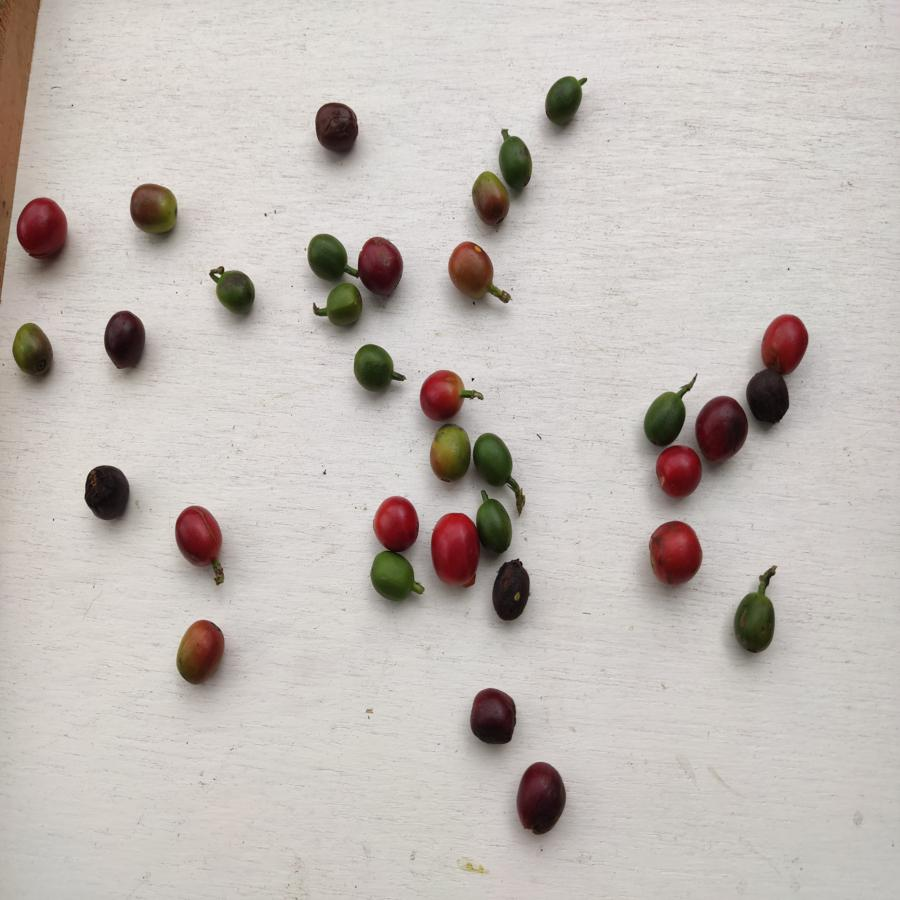Inmaduro: (732, 589, 777, 655), (472, 432, 517, 487), (371, 550, 416, 605), (541, 73, 585, 128), (642, 390, 685, 446), (352, 343, 396, 395), (498, 134, 537, 192), (210, 267, 257, 315), (475, 500, 515, 556), (307, 233, 347, 281), (324, 282, 365, 328)
Maduro: (645, 518, 703, 587), (430, 512, 480, 588), (15, 197, 69, 263), (758, 310, 812, 371), (175, 505, 224, 571), (370, 495, 421, 553), (418, 368, 467, 420), (656, 447, 703, 498)
Pinton: (176, 620, 227, 688), (445, 242, 498, 304), (126, 182, 182, 236), (430, 422, 471, 483), (12, 322, 55, 378), (471, 170, 509, 224)
Sobremaduro: (517, 759, 568, 837), (697, 395, 750, 462), (358, 235, 407, 298), (468, 688, 519, 747), (312, 101, 362, 157), (103, 310, 148, 371), (82, 465, 131, 521), (490, 559, 533, 622), (744, 370, 792, 425)
